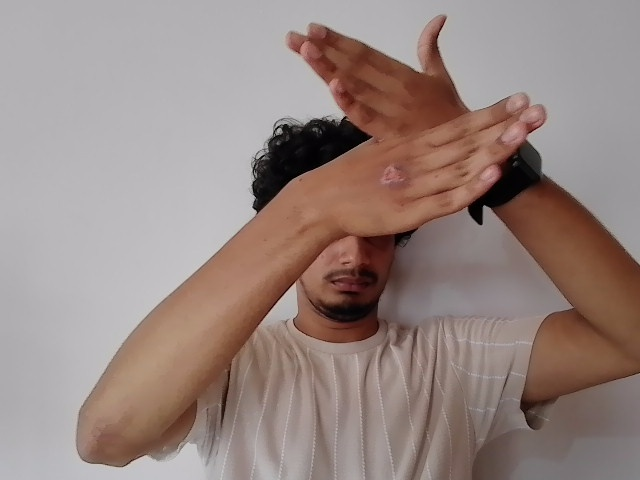busy: (285, 13, 557, 233)
